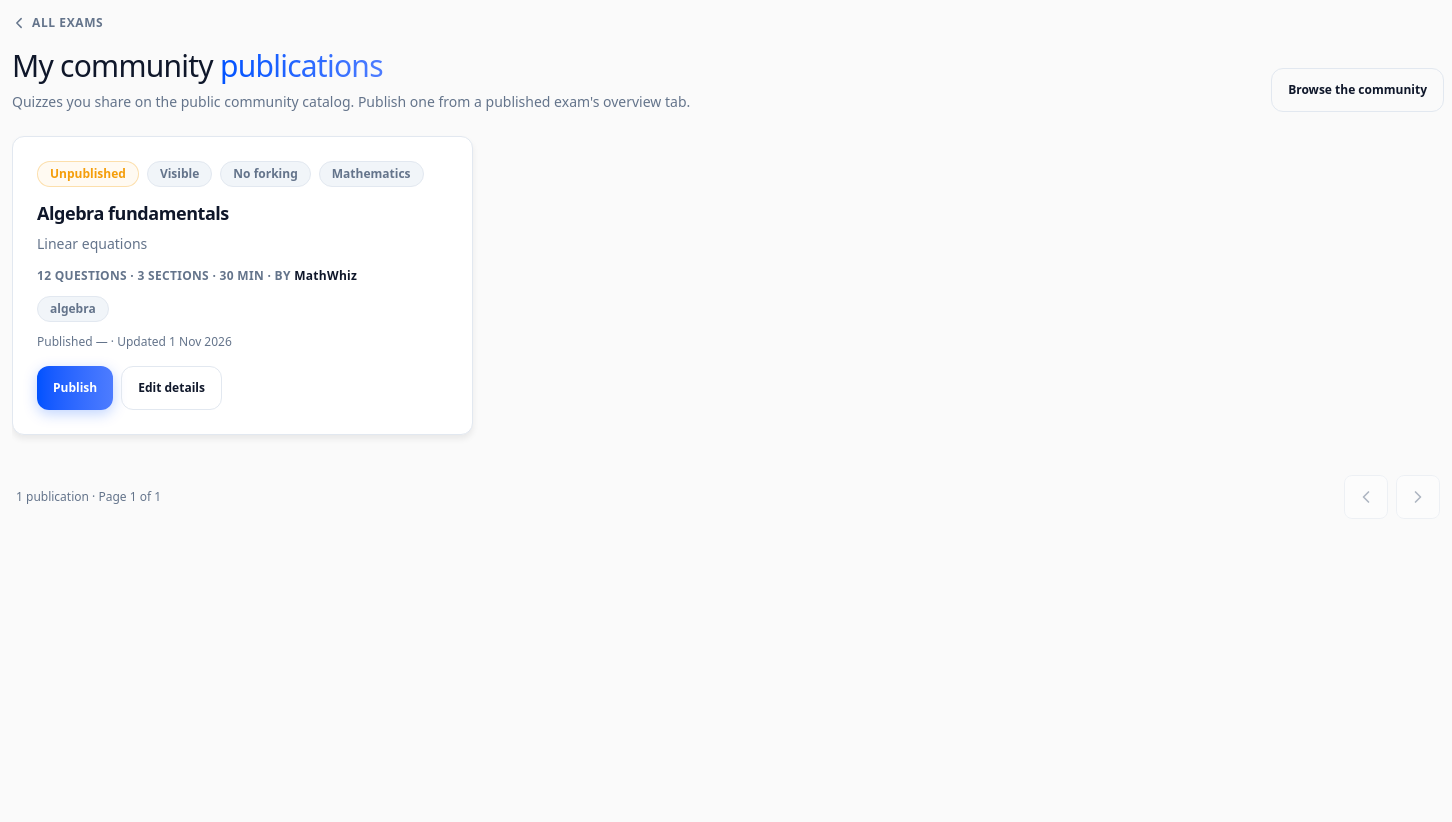
/community/mine › surfaces a publish blocked-by-moderation error with actionable copy
Click the button "Publish". click: (75, 388)
box: [37,366,113,410]
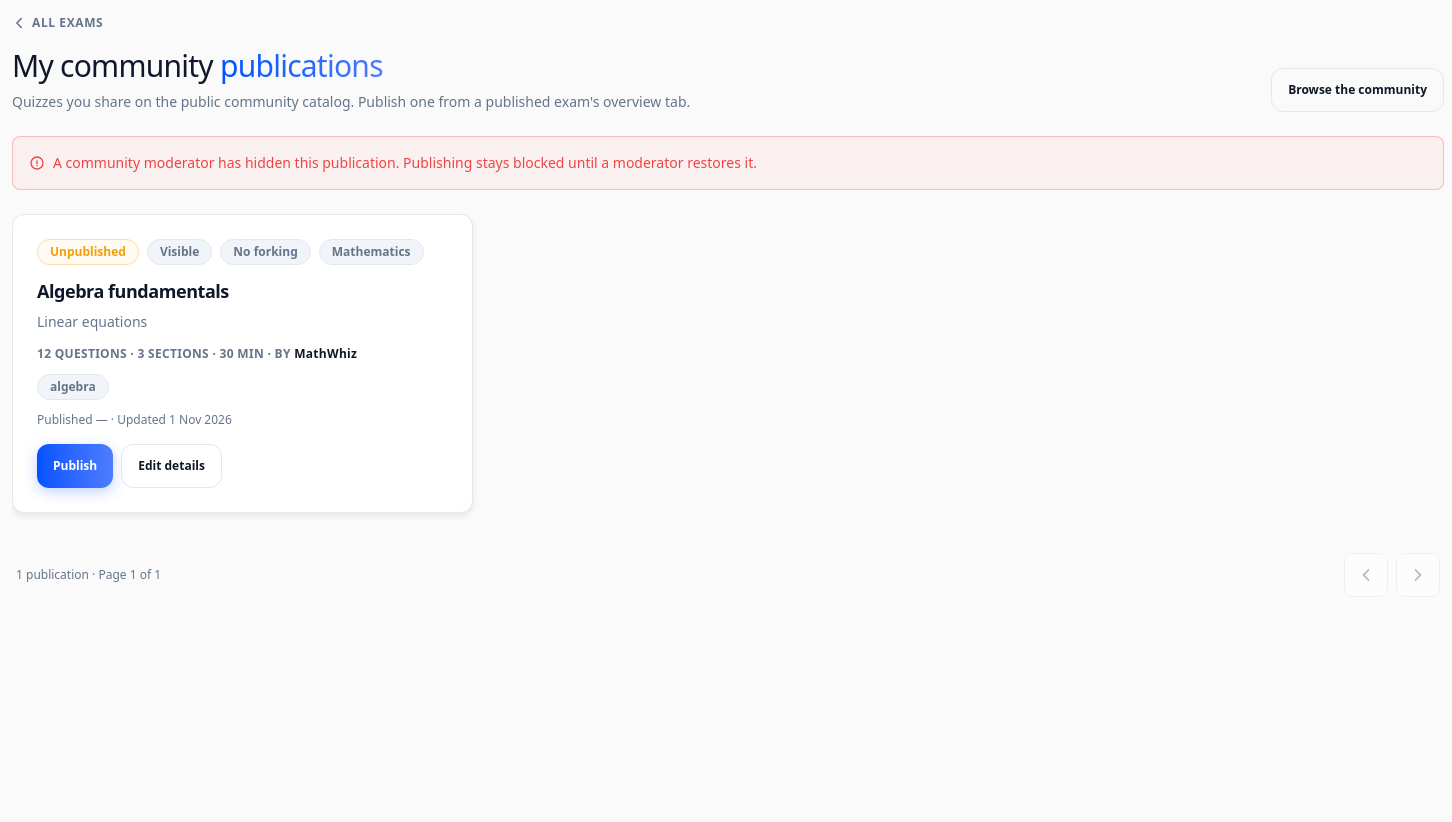
Result: the message shows "Publishing stays blocked until a moderator restores it" at [53,153,757,172]
